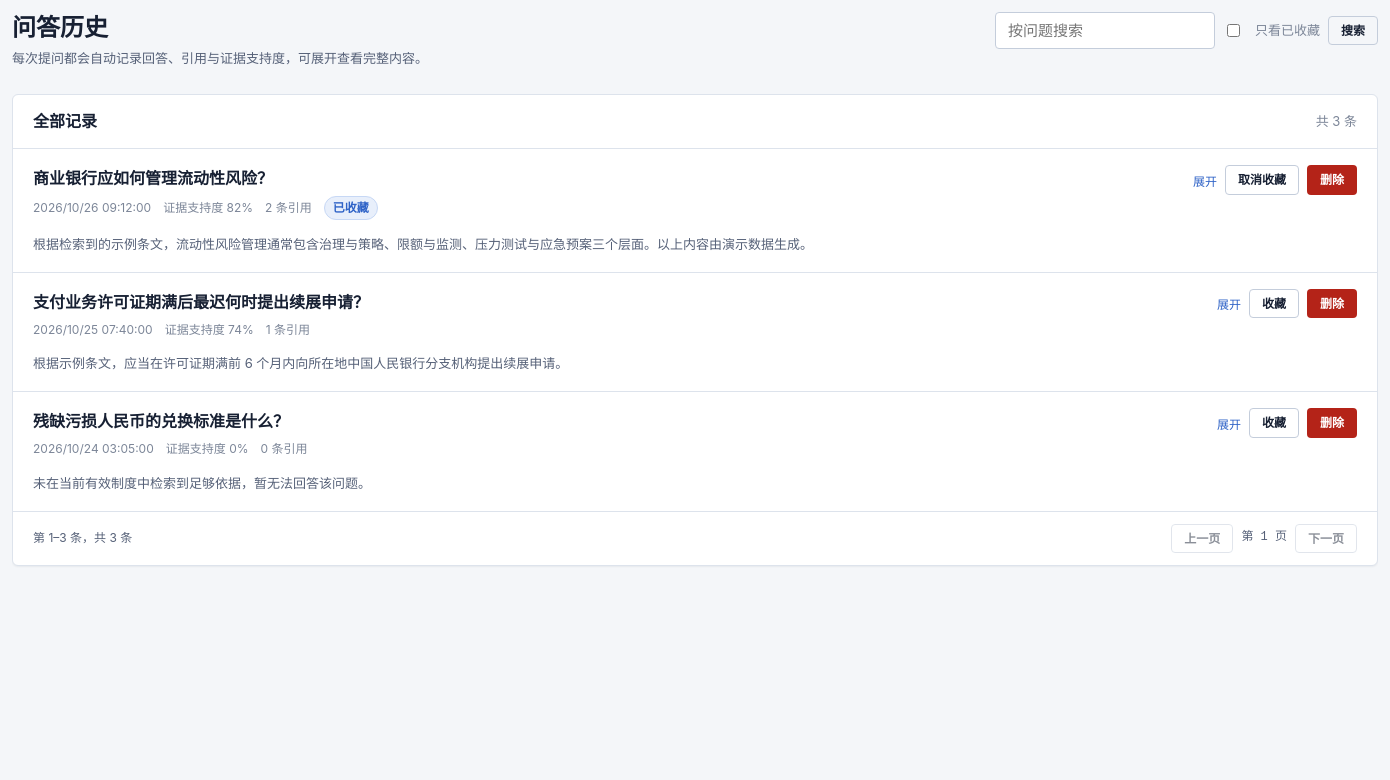
it: 问答历史页 › 展开后展示证据支持度、行内条文角标与 trace_id
expect the text "商业银行应如何管理流动性风险？" is shown: met, box top-left (33, 168), bottom-right (273, 188)
Click the button "展开" in the row of "商业银行应如何管理流动性风险？" at (1205, 180), box top-left (1193, 172), bottom-right (1217, 188)
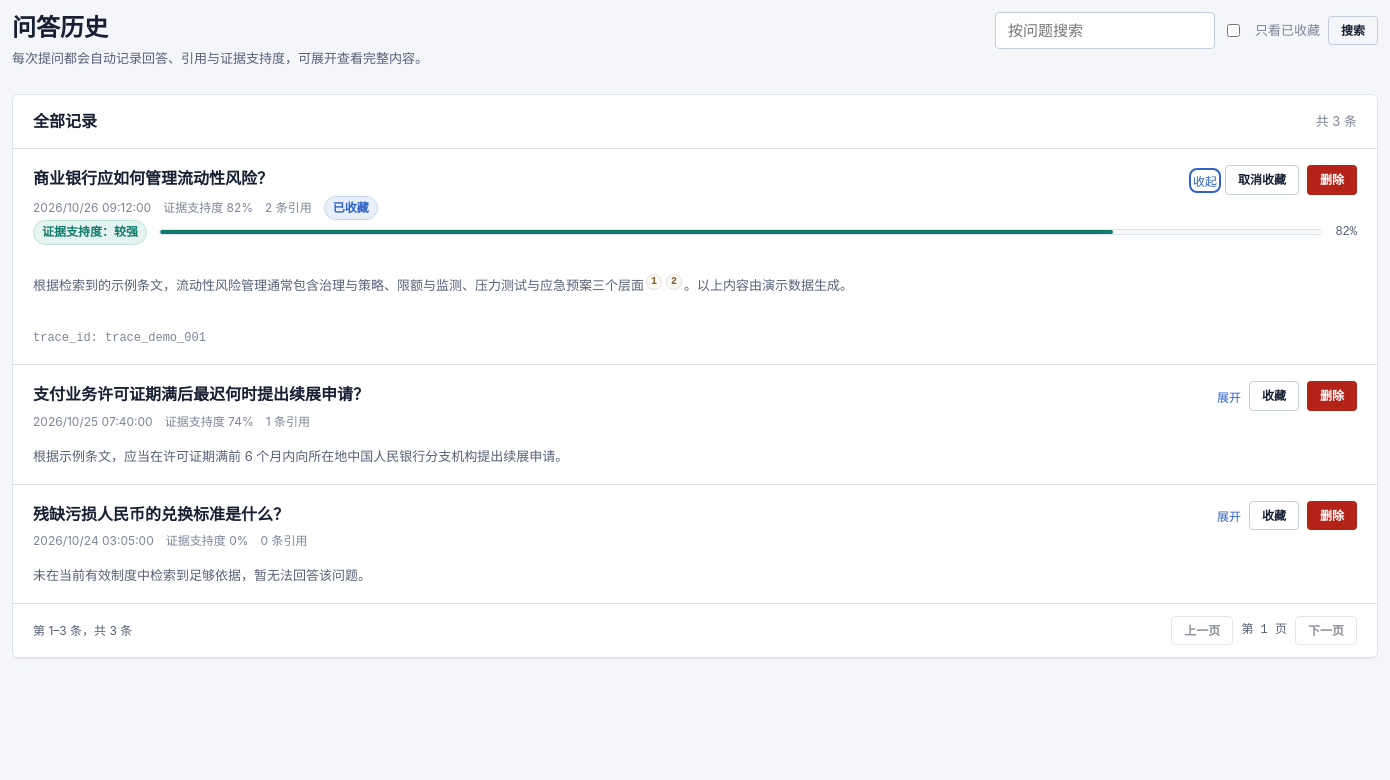
expect the text "证据支持度：较强" is shown: met, box top-left (33, 220), bottom-right (147, 245)
expect the text "trace_id: trace_demo_001" is shown: met, box top-left (33, 331), bottom-right (206, 345)
expect the button "1" is shown: met
Click the button "1" at (654, 282), box top-left (646, 274), bottom-right (662, 290)
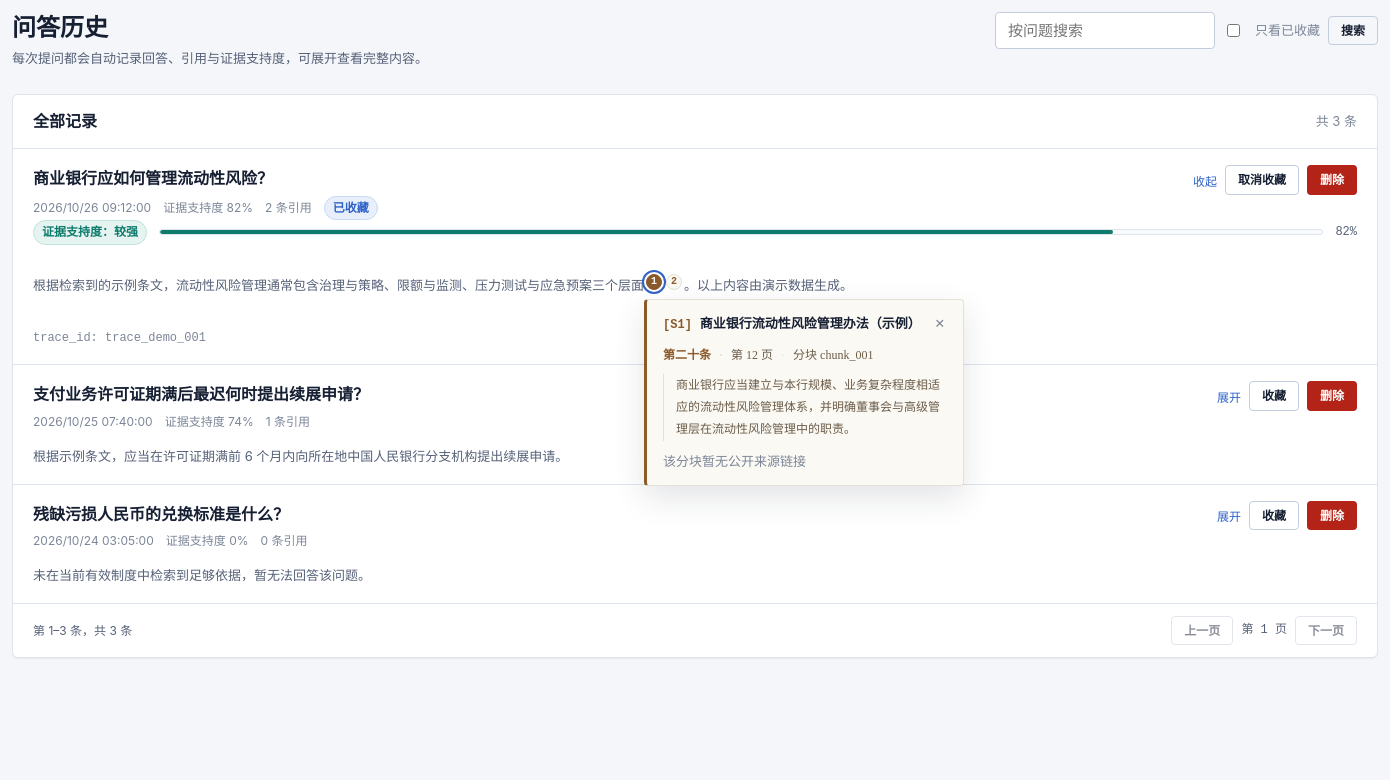
expect the text "第二十条" is shown: met, box top-left (663, 344), bottom-right (723, 366)
